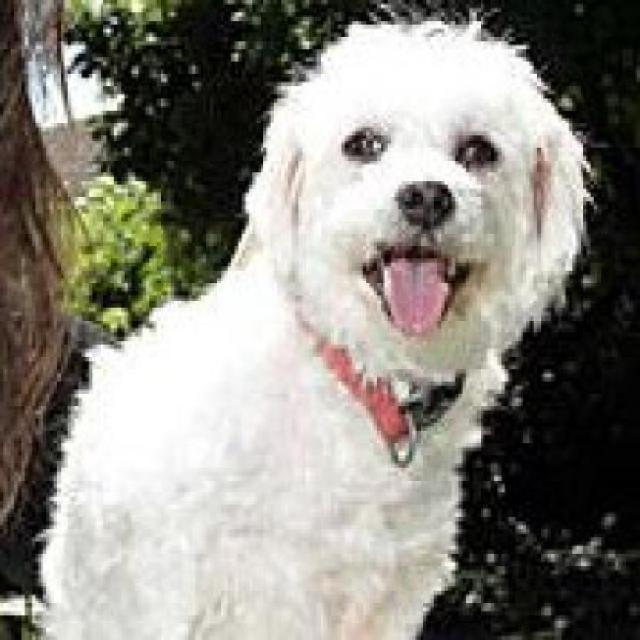Dog: (35, 12, 594, 636)
